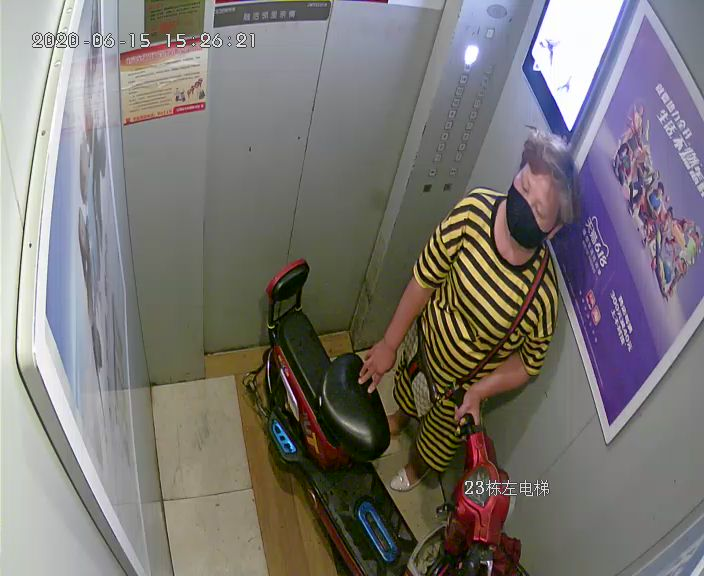Electric-bicycle: (240, 258, 530, 574)
